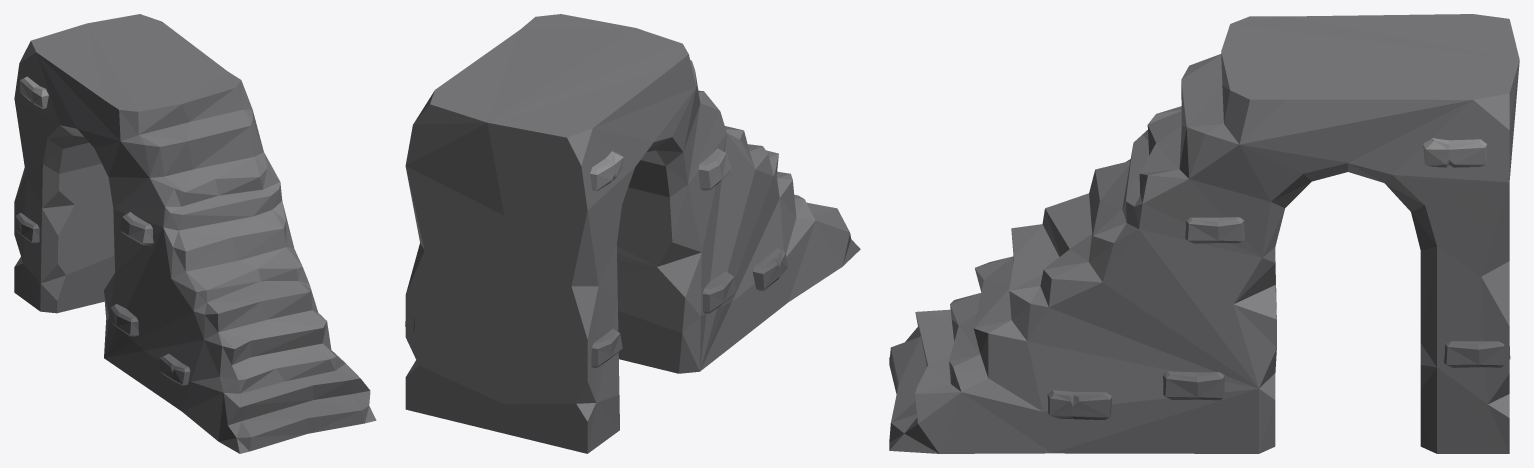
File: SM_Bld_Rockwall_StairArchway_01.gltf
The picture shows the model from 3 angles, left to right: view 1: azimuth 30°, elevation 25°; view 2: azimuth 150°, elevation 25°; view 3: azimuth 270°, elevation 25°; orthographic projection. The views are drawn at different scales.
Visible parts, largest first — view 1: SM_Bld_Rockwall_StairArchway_01; view 2: SM_Bld_Rockwall_StairArchway_01; view 3: SM_Bld_Rockwall_StairArchway_01.
Part boxes in pixels (x1,y1,x2,y2): SM_Bld_Rockwall_StairArchway_01: (14,14,376,453); SM_Bld_Rockwall_StairArchway_01: (405,14,860,453); SM_Bld_Rockwall_StairArchway_01: (889,14,1519,453).
Size of the model in its own units: 1.79 by 2.74 by 4.51.
1 material, 1 textured.
